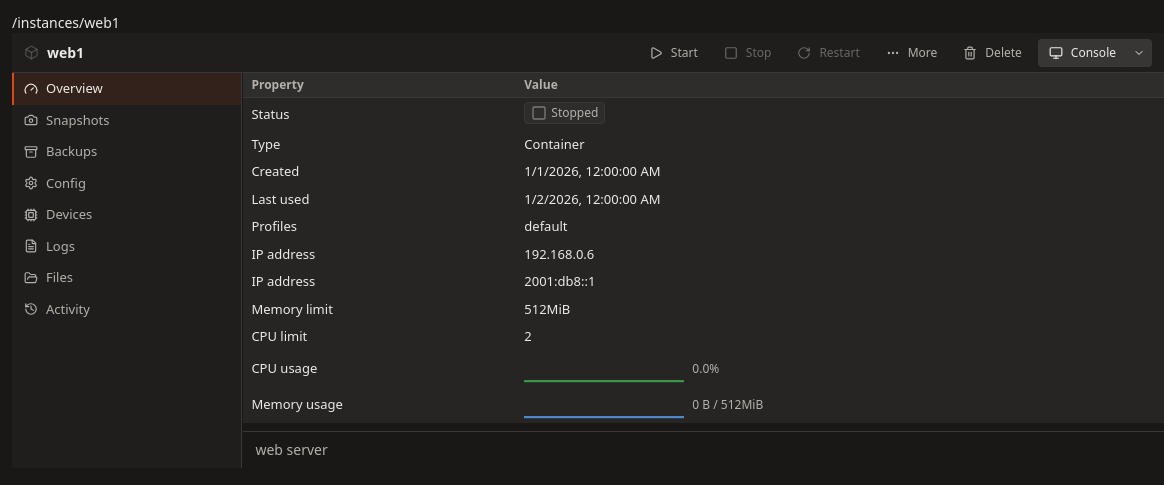
Test case: InstanceDetailPage › opens the more menu from the header
Expected: the text "web1" is shown, [24, 42, 84, 62]
Click the button with test id "detail-more" at (912, 52), box [876, 38, 947, 66]
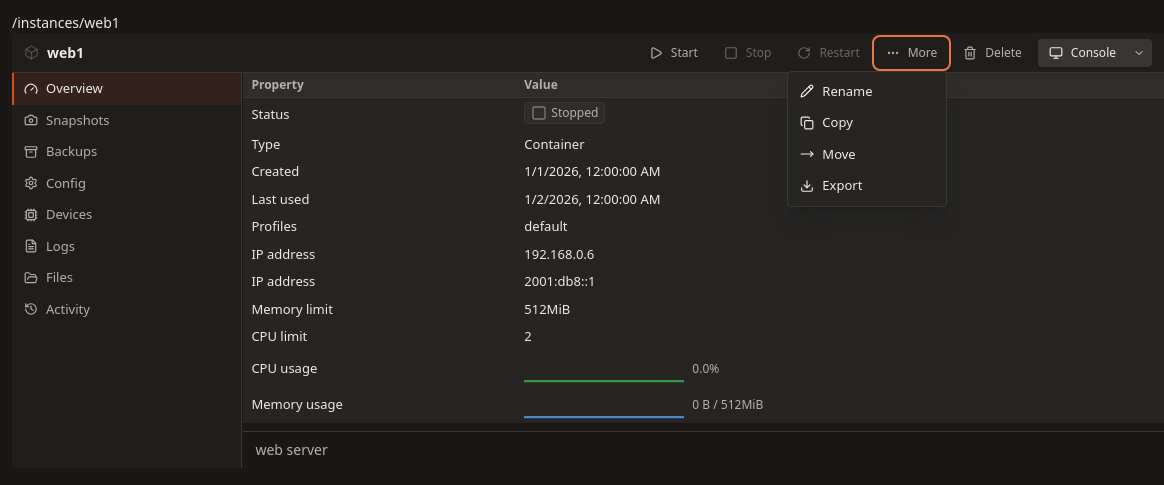
Expected: the element with test id "detail-more-menu" is shown, [787, 70, 947, 206]
